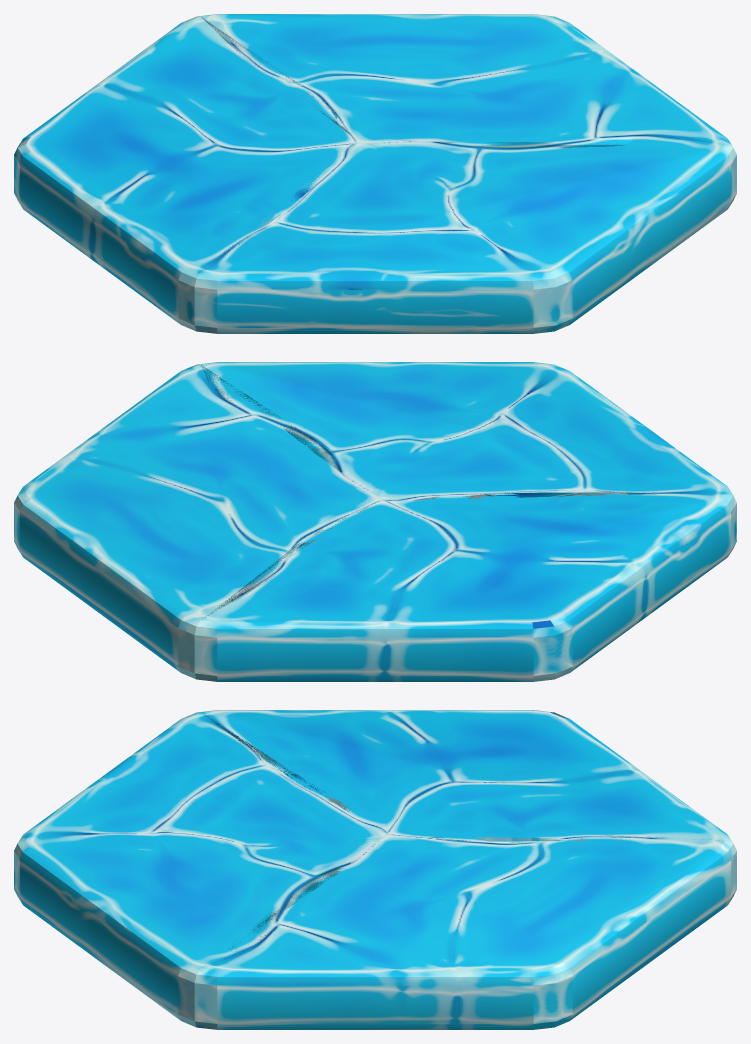
The model's file is IceHexa.fbx.
3 renders of one model, top to bottom at view 1: azimuth 30°, elevation 25°; view 2: azimuth 150°, elevation 25°; view 3: azimuth 270°, elevation 25°, orthographic.
Visible parts, largest first — view 1: IceHexa; view 2: IceHexa; view 3: IceHexa.
Part boxes in pixels (bbox=[...]): IceHexa: bbox=[14, 14, 736, 333]; IceHexa: bbox=[14, 362, 736, 681]; IceHexa: bbox=[14, 710, 736, 1029].
Bounding box in the file's own units: 303 × 31 × 343.
1 material, 1 textured.
